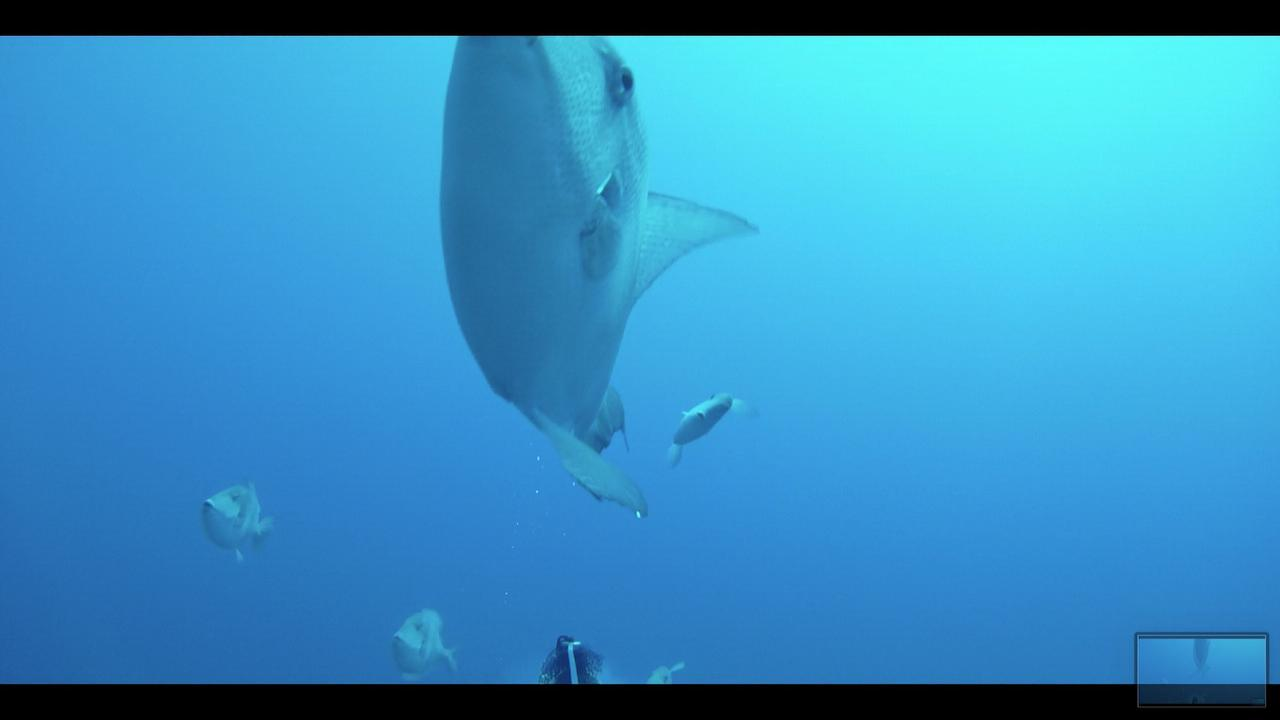balistes: (428, 36, 758, 527), (186, 472, 287, 574), (660, 382, 758, 470), (379, 601, 481, 683)
